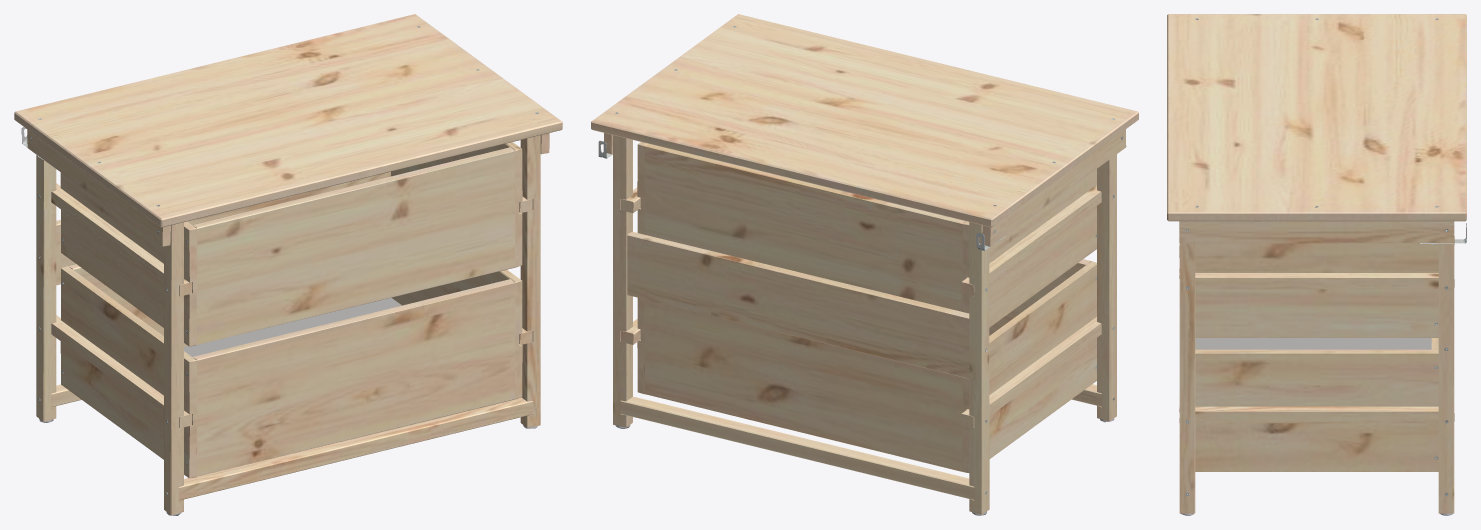
Rendered from 27 - KRONÖREN Chest of 2 drawers - pine 76x48x55 cm.glb.
The picture shows the model from 3 angles, left to right: view 1: azimuth 30°, elevation 25°; view 2: azimuth 150°, elevation 25°; view 3: azimuth 270°, elevation 25°; orthographic projection.
Parts seen in each view (by area): view 1: ASY_ART_90610799_S01_NV01; view 2: ASY_ART_90610799_S01_NV01; view 3: ASY_ART_90610799_S01_NV01.
Boxes of the visible parts, left/top/right/bottom form: ASY_ART_90610799_S01_NV01: left=14, top=14, right=562, bottom=515; ASY_ART_90610799_S01_NV01: left=591, top=14, right=1138, bottom=515; ASY_ART_90610799_S01_NV01: left=1167, top=14, right=1466, bottom=515.
Size of the model in its own units: 0.755 by 0.5515 by 0.48.
Materials: 1 (1 with a texture image).
